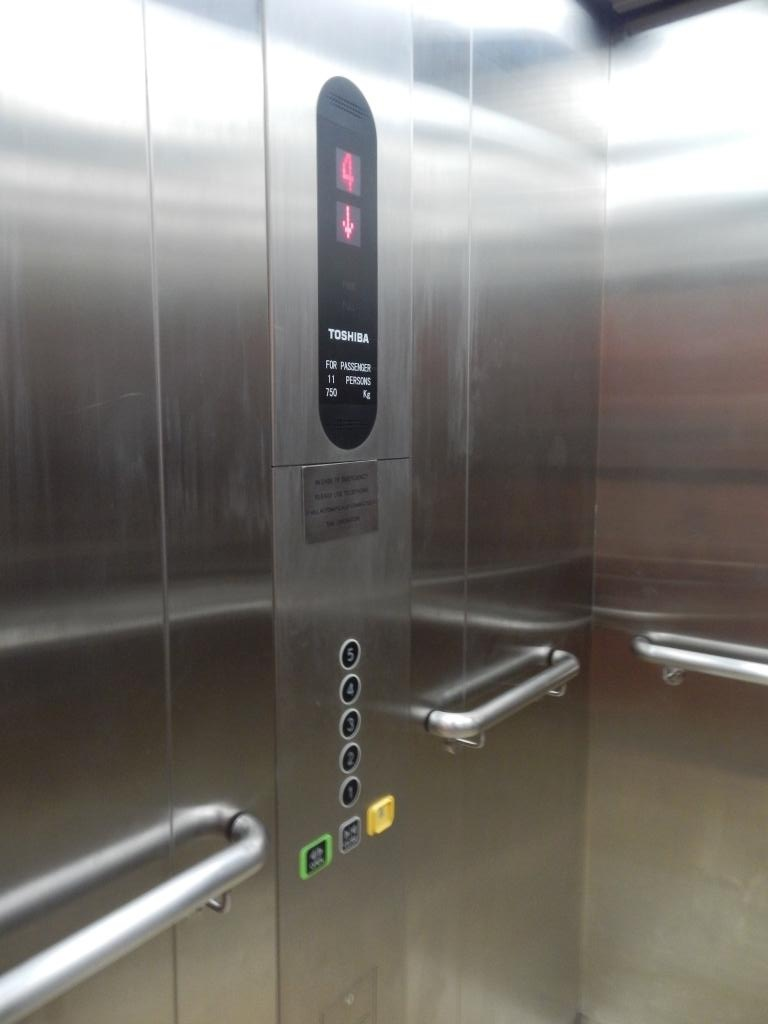1: (336, 775, 361, 809)
2: (337, 741, 362, 775)
3: (337, 706, 362, 740)
4: (338, 672, 363, 706)
5: (337, 635, 363, 672)
blur: (365, 791, 397, 839)
close: (337, 813, 363, 857)
led: (313, 70, 383, 455)
open: (296, 832, 334, 880)
